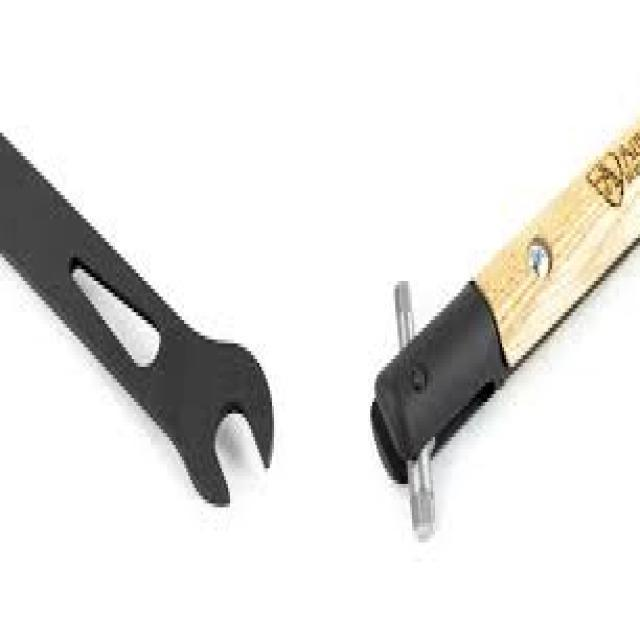wrench: (0, 122, 276, 508)
